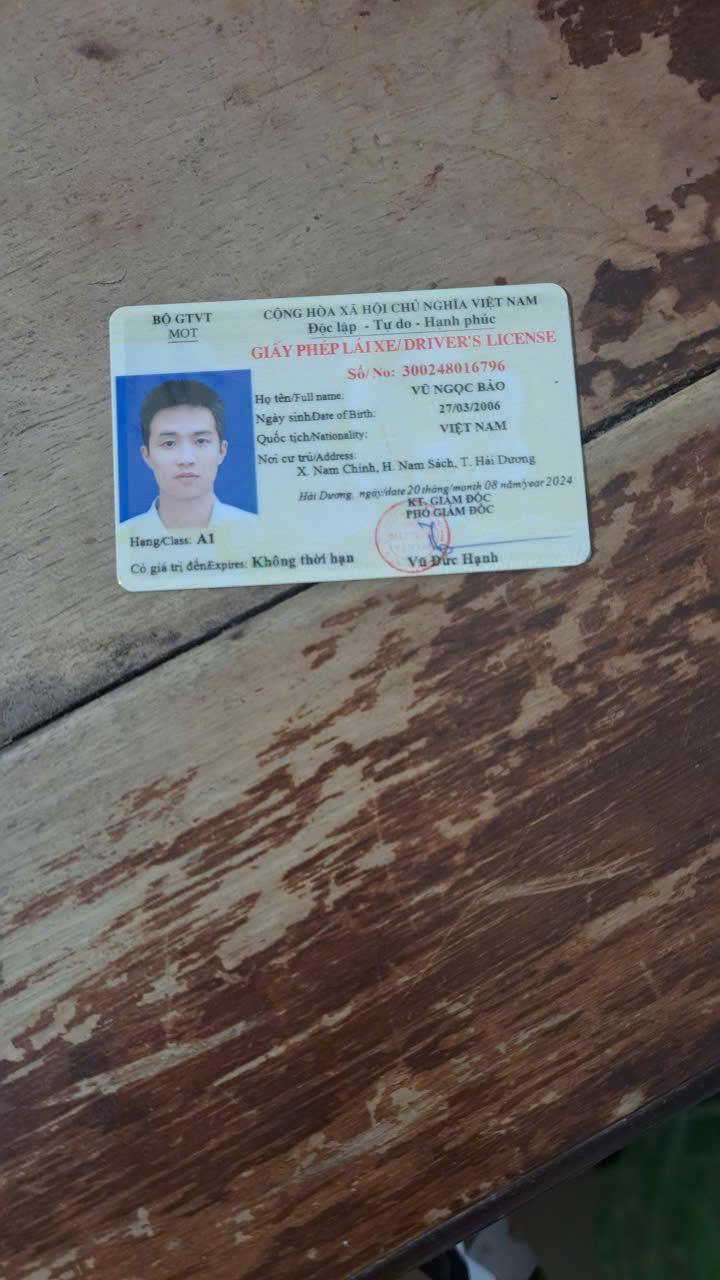gplx: (96, 279, 600, 598)
